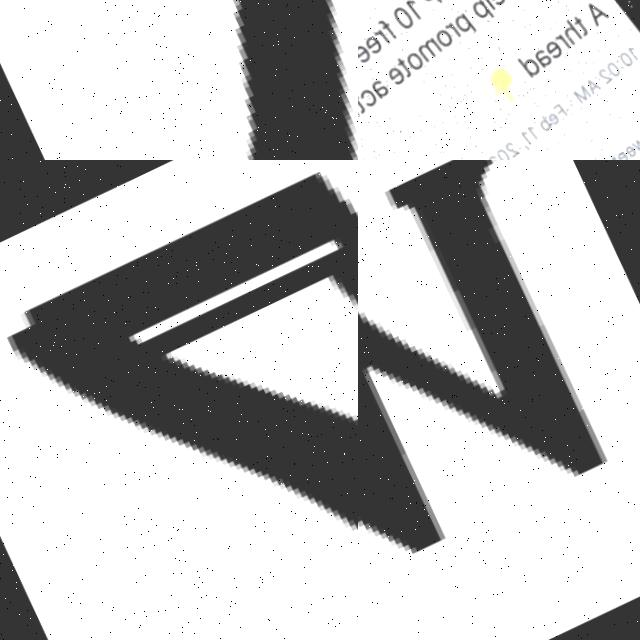0: (388, 0, 418, 33), (617, 47, 636, 68), (605, 57, 624, 78), (494, 143, 514, 160)
1: (403, 0, 426, 20), (518, 124, 538, 147), (525, 120, 543, 141), (627, 42, 640, 60)
2: (596, 63, 616, 85), (504, 136, 523, 157), (486, 150, 506, 160)
7: (0, 160, 358, 640)
R: (0, 0, 358, 160)
W: (358, 160, 640, 640)
